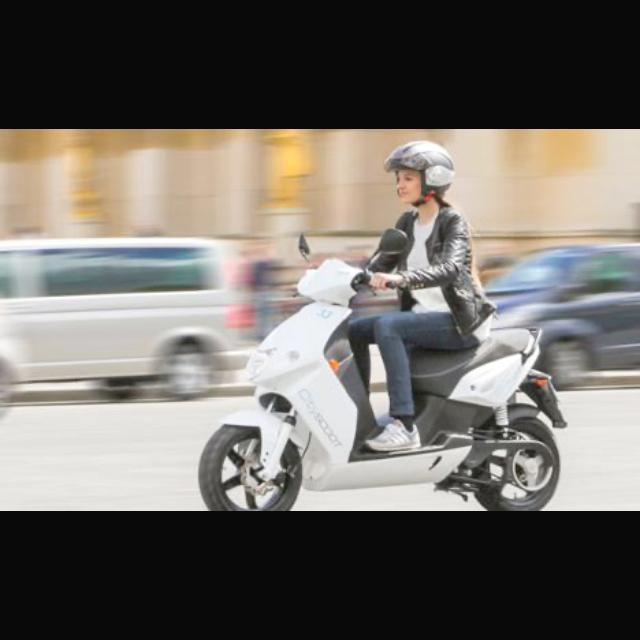With Helmet: (382, 137, 456, 207)
